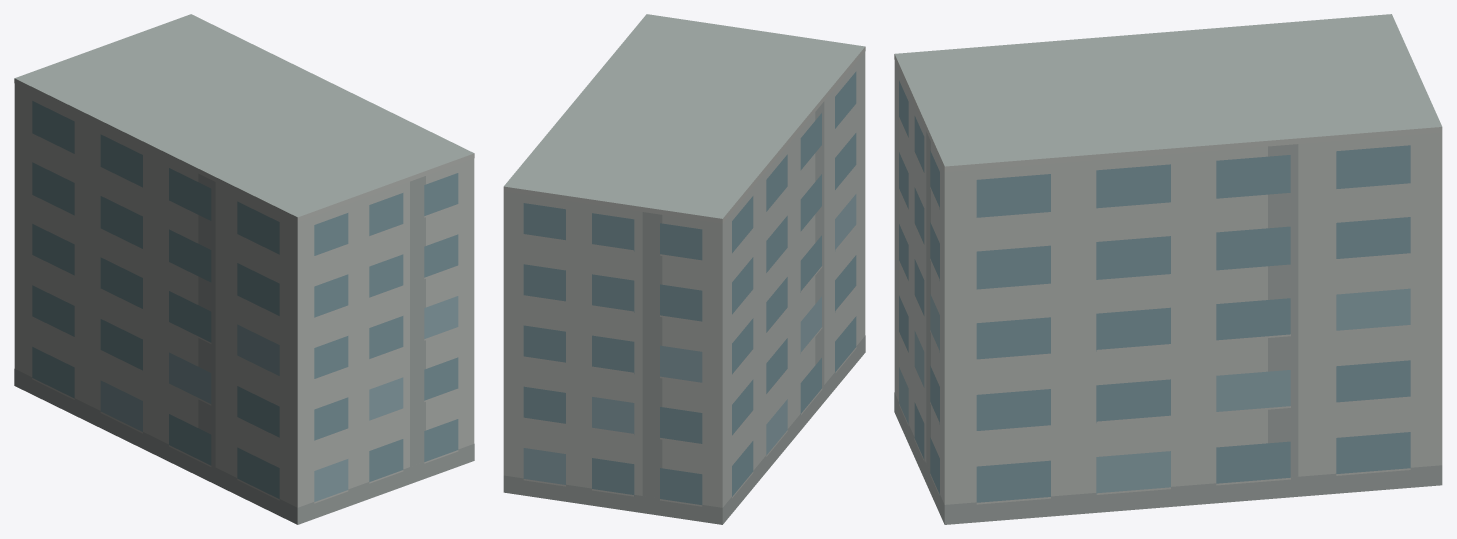
Rendered from residential-3e97fafc-0744-44fe-83e3-16d138e2d3c0.glb.
3 views of the same model, side by side, from view 1: azimuth 30°, elevation 25°; view 2: azimuth 150°, elevation 25°; view 3: azimuth 270°, elevation 25° (orthographic). The views are drawn at different scales.
Visible parts, largest first — view 1: residential-3e97fafc-0744-44fe-83e3-16d138e2d3c0.tmp; view 2: residential-3e97fafc-0744-44fe-83e3-16d138e2d3c0.tmp; view 3: residential-3e97fafc-0744-44fe-83e3-16d138e2d3c0.tmp.
Part boxes in pixels (x1,y1,x2,y2): residential-3e97fafc-0744-44fe-83e3-16d138e2d3c0.tmp: (14,14,474,524); residential-3e97fafc-0744-44fe-83e3-16d138e2d3c0.tmp: (503,14,865,524); residential-3e97fafc-0744-44fe-83e3-16d138e2d3c0.tmp: (894,14,1442,524).
Bounding box in the file's own units: 13.93 × 15.25 × 21.14.
